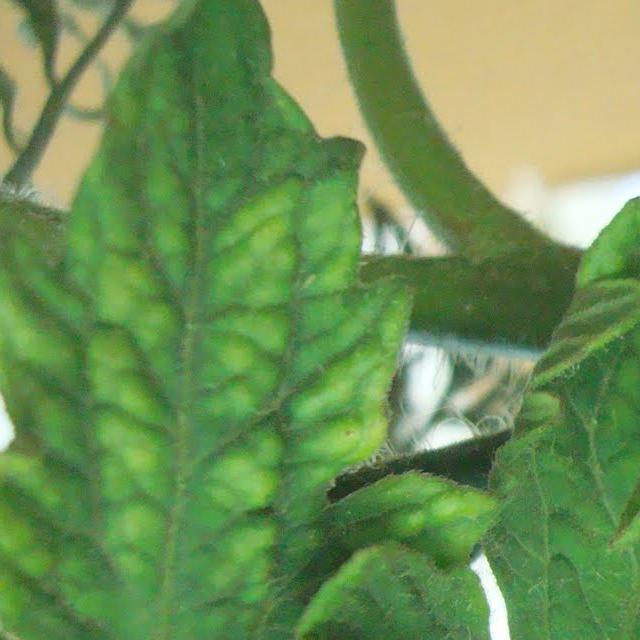Tomato leaf mosaic virus: (0, 0, 464, 640), (308, 0, 640, 640)
